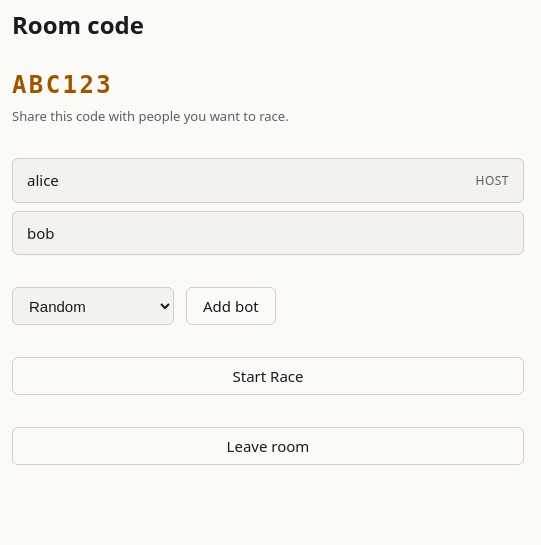
RoomPage › warns the host before leaving a room with other players present
Click the button "Leave room". click: x=268, y=446
box: [12,427,524,465]
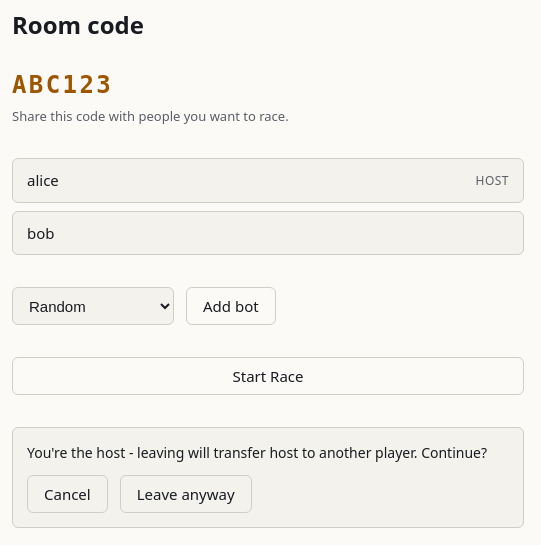
Now the text "You're the host" is shown, box [27,443,487,462]
Click the button "Cancel". click: x=67, y=494
box: [27,475,108,513]
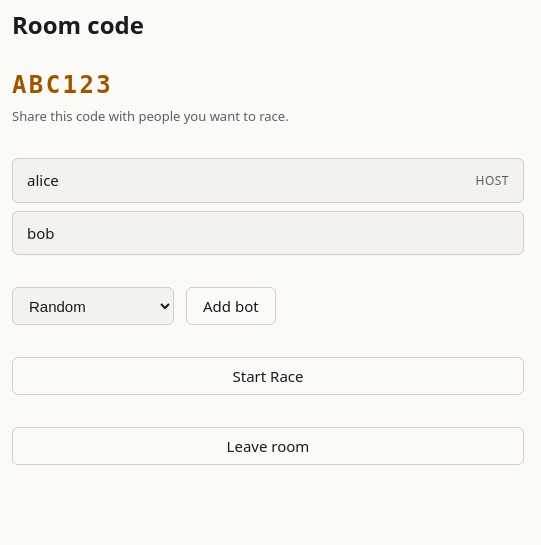
Now the text "You're the host" is gone
Now the button "Leave room" is shown, box [12,427,524,465]
